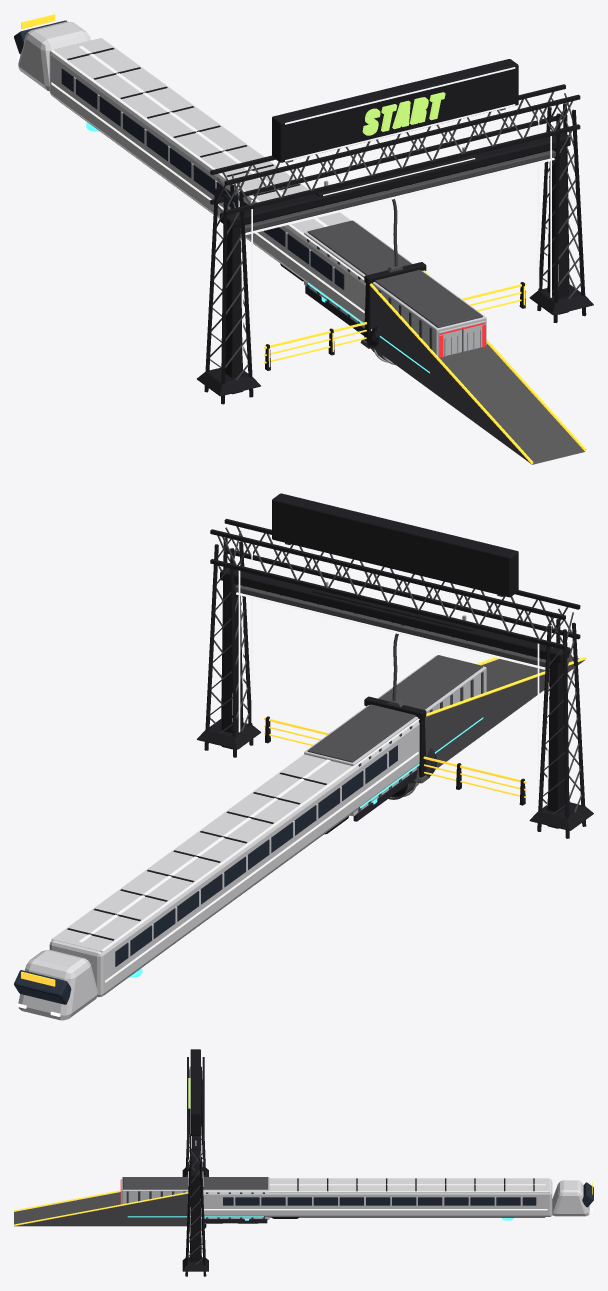
File: sr_props.glb
The picture shows the model from 3 angles, top to bottom: view 1: azimuth 30°, elevation 25°; view 2: azimuth 150°, elevation 25°; view 3: azimuth 270°, elevation 25°; orthographic projection. The views are drawn at different scales.
Visible parts, largest first — view 1: startgate, hoverbus, busramp, gantry, hauler, hurdle, gate; view 2: hoverbus, startgate, gantry, hauler, busramp, hurdle, gate; view 3: hoverbus, busramp, hauler, startgate, gantry.
Part boxes in pixels (<box>): startgate: <box>197,59,593,404</box>; hoverbus: <box>14,14,365,322</box>; busramp: <box>370,270,586,464</box>; gantry: <box>220,133,570,394</box>; hauler: <box>280,220,486,373</box>; hurdle: <box>264,282,526,370</box>; gate: <box>360,262,426,348</box>; hoverbus: <box>14,718,419,1020</box>; startgate: <box>197,493,593,838</box>; gantry: <box>220,567,570,828</box>; hauler: <box>304,655,486,834</box>; busramp: <box>425,657,586,769</box>; hurdle: <box>264,716,526,805</box>; gate: <box>364,696,429,783</box>; hoverbus: <box>200,1177,593,1220</box>; busramp: <box>14,1190,190,1226</box>; hauler: <box>120,1177,298,1223</box>; startgate: <box>182,1049,208,1276</box>; gantry: <box>189,1086,201,1261</box>.
Size of the model in its own units: 21.14 by 14.67 by 51.09.
